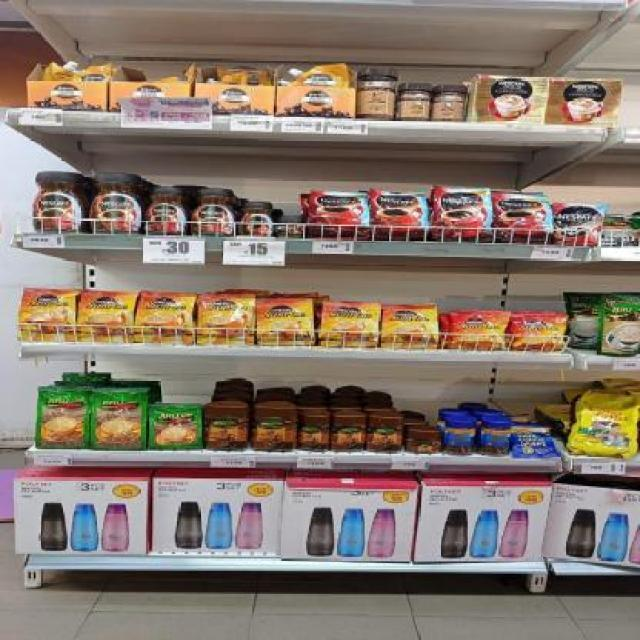Coffee: (31, 172, 81, 234), (90, 175, 142, 234), (496, 194, 555, 244), (432, 190, 490, 240), (19, 290, 73, 342), (313, 192, 371, 236), (255, 300, 313, 344), (139, 293, 190, 342), (80, 294, 132, 342), (200, 296, 252, 344), (322, 303, 378, 346), (375, 193, 427, 239), (384, 306, 436, 348), (554, 204, 600, 245), (512, 315, 563, 351), (194, 190, 233, 237), (454, 311, 502, 349), (147, 188, 185, 234), (239, 203, 271, 236), (277, 217, 305, 237)
